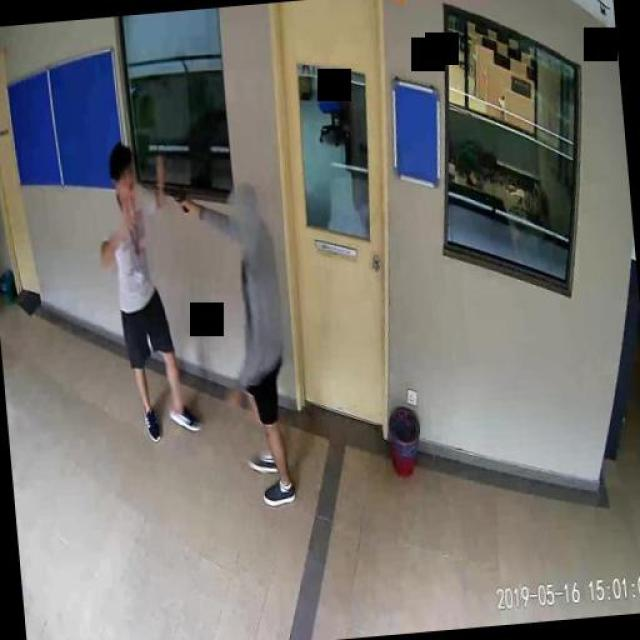gun: (160, 182, 189, 214)
